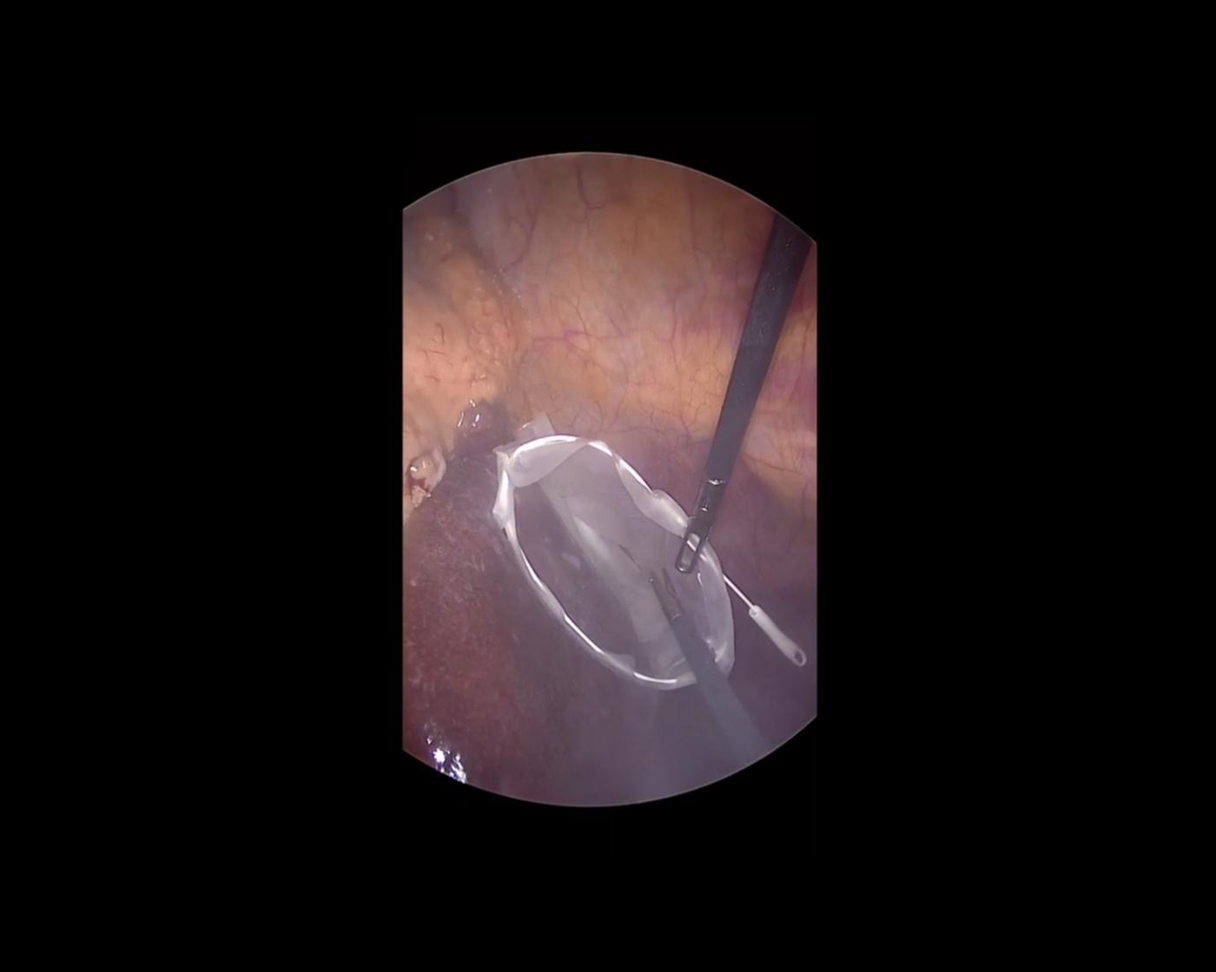Bag: (444, 384, 811, 772)
Forceps: (649, 213, 818, 576), (627, 567, 773, 772)
Liver: (346, 380, 674, 839)
